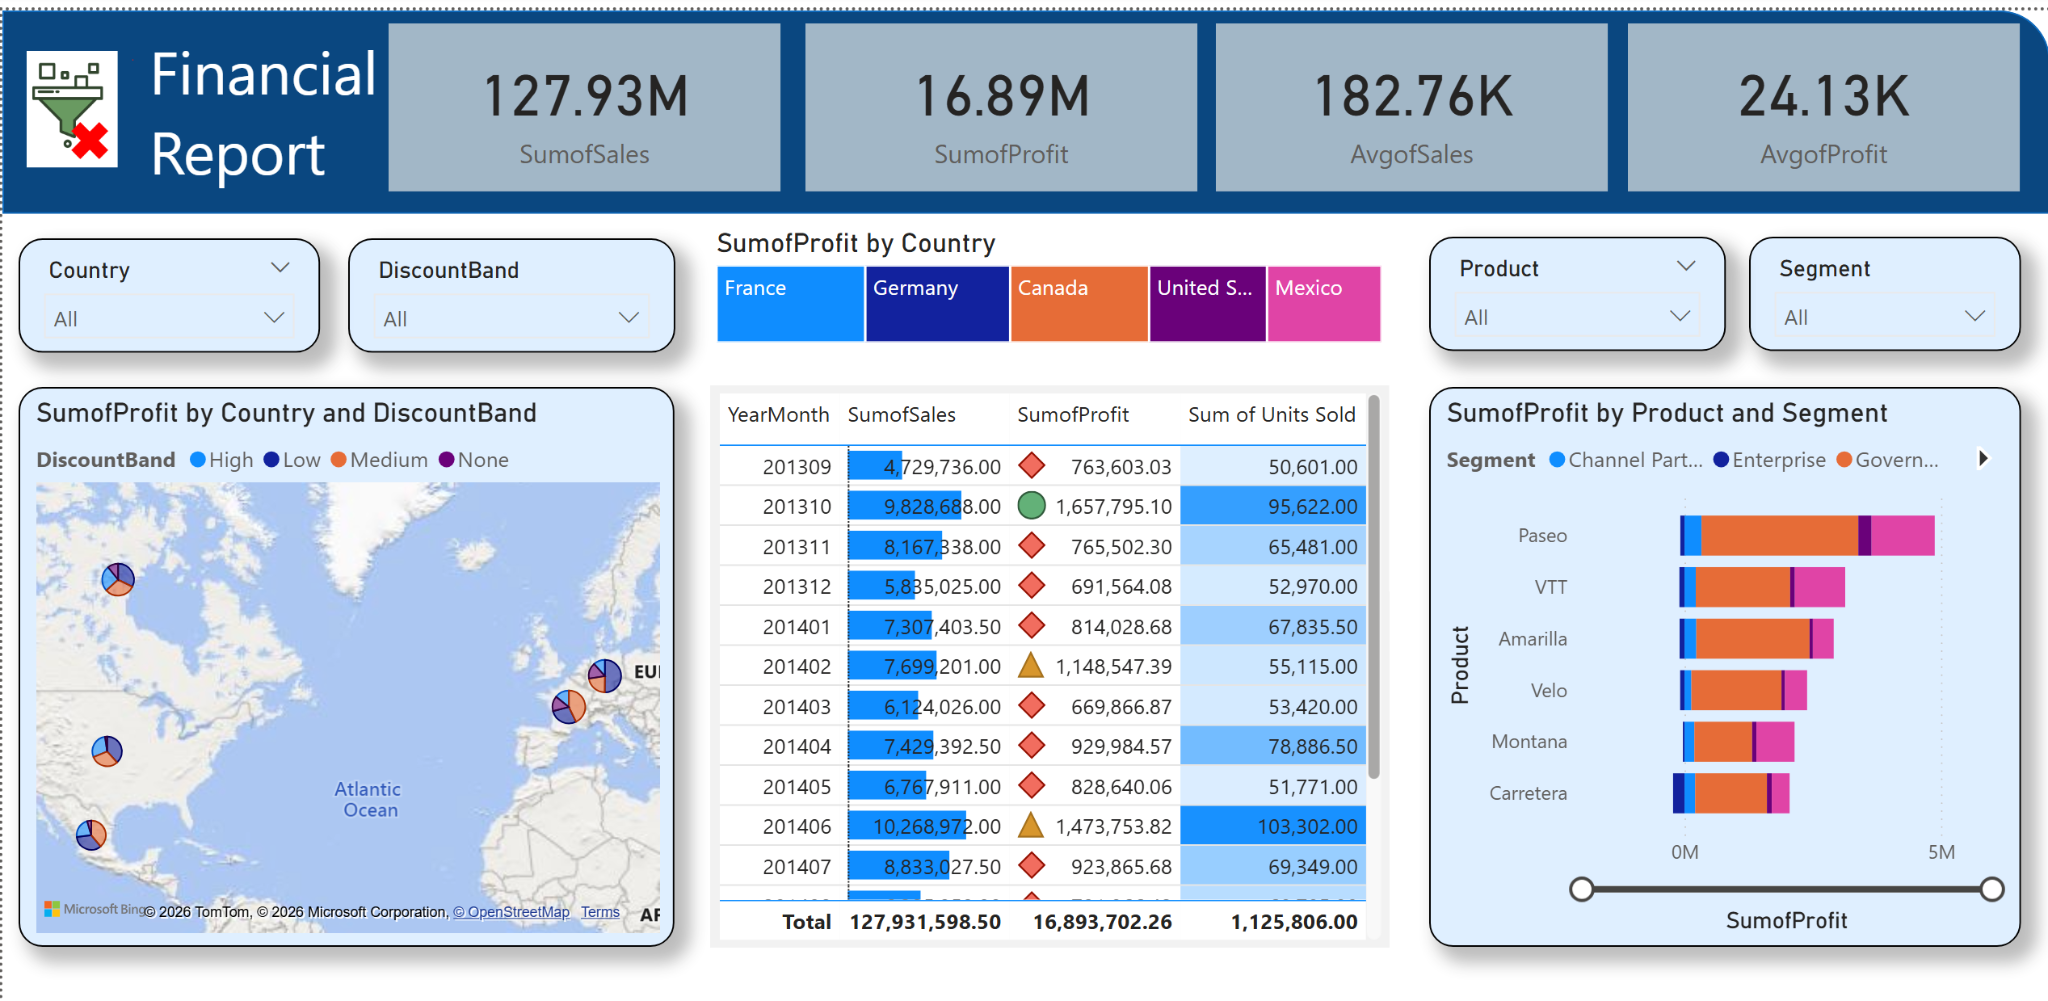

This screenshot's page, from the dashboard's own definition file:
{"tool":"powerbi","page":{"name":"Financial_Report","canvas":[1280,620],"ordinal":1},"visuals":[{"type":"shape","box":[0,0,1280,127.1],"z":0},{"type":"textbox","box":[87.1,7.1,154.3,112.9],"z":1000},{"type":"card","fields":{"Values":["AllMeasures.SumofProfit"]},"box":[501.7,8.3,245,105],"z":2000},{"type":"card","fields":{"Values":["AllMeasures.AvgofSales"]},"box":[758.3,8.3,245,105],"z":3000},{"type":"card","fields":{"Values":["AllMeasures.AvgofProfit"]},"box":[1016.7,8.3,245,105],"z":4000},{"type":"card","fields":{"Values":["AllMeasures.SumofSales"]},"box":[241.7,8.3,245,105],"z":5000},{"type":"slicer","fields":{"Values":["DimCountry.Country"]},"box":[10,142.9,188.6,71.4],"z":6000},{"type":"slicer","fields":{"Values":["DimDiscountBand.DiscountBand"]},"box":[215.7,142.9,204.3,71.4],"z":7000},{"type":"slicer","fields":{"Values":["DimProduct.Product"]},"box":[891.4,141.4,185.7,71.4],"z":8000},{"type":"slicer","fields":{"Values":["DimSegment.Segment"]},"box":[1091.4,141.4,170,71.4],"z":9000},{"type":"treemap","fields":{"Group":["DimCountry.Country"],"Values":["AllMeasures.SumofProfit"]},"box":[441.4,135.7,425.7,77.1],"z":10000},{"type":"map","fields":{"Size":["AllMeasures.SumofProfit"],"Category":["DimCountry.Country"],"Series":["DimDiscountBand.DiscountBand"]},"box":[10,235,410,350],"z":11000},{"type":"tableEx","fields":{"Values":["DimDate.YearMonth","AllMeasures.SumofSales","AllMeasures.SumofProfit","Sum(FactSales.Units Sold)"]},"box":[442.9,234.3,424.3,351.4],"z":12000},{"type":"barChart","fields":{"Category":["DimProduct.Product"],"Y":["AllMeasures.SumofProfit"],"Series":["DimSegment.Segment"]},"box":[891.7,235,370,350],"z":13000},{"type":"image","box":[10,20,77.1,82.9],"z":14000}]}

Visuals, with their boxes in screenshot pixels (x1, y1, x2, y2), scaled from the page's 1280x620 canvas onto the 2048x1001 screenshot:
shape: x1=0, y1=0, x2=2047, y2=205
textbox: x1=139, y1=11, x2=386, y2=194
card - AllMeasures.SumofProfit: x1=803, y1=13, x2=1195, y2=183
card - AllMeasures.AvgofSales: x1=1213, y1=13, x2=1605, y2=183
card - AllMeasures.AvgofProfit: x1=1627, y1=13, x2=2019, y2=183
card - AllMeasures.SumofSales: x1=387, y1=13, x2=779, y2=183
slicer - DimCountry.Country: x1=16, y1=231, x2=318, y2=346
slicer - DimDiscountBand.DiscountBand: x1=345, y1=231, x2=672, y2=346
slicer - DimProduct.Product: x1=1426, y1=228, x2=1723, y2=344
slicer - DimSegment.Segment: x1=1746, y1=228, x2=2018, y2=344
treemap - DimCountry.Country x AllMeasures.SumofProfit: x1=706, y1=219, x2=1387, y2=344
map - AllMeasures.SumofProfit x DimCountry.Country: x1=16, y1=379, x2=672, y2=944
tableEx - DimDate.YearMonth x AllMeasures.SumofSales: x1=709, y1=378, x2=1388, y2=946
barChart - DimProduct.Product x AllMeasures.SumofProfit: x1=1427, y1=379, x2=2019, y2=944
image: x1=16, y1=32, x2=139, y2=166
